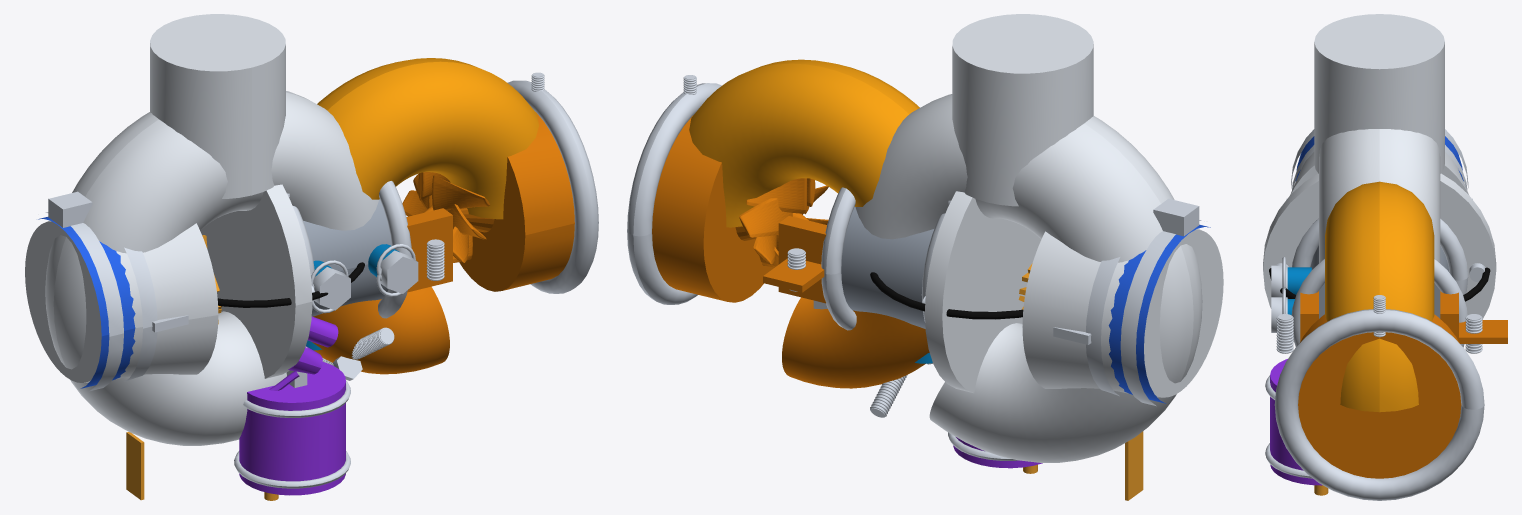
Rendered from turbo_single_refined.glb.
3 renders of one model, left to right at view 1: azimuth 30°, elevation 25°; view 2: azimuth 150°, elevation 25°; view 3: azimuth 270°, elevation 25°, orthographic. The views are drawn at different scales.
Visible parts, largest first — view 1: Compressor_Volute_Scroll, Inconel_Foil_Turbine_Thermal_Blanket, Compressor_Boost_Outlet_Pipe, Anti_Surge_Ported_Air_Inlet_Snout, Compressor_Seal_Backplate, Turbine_VBand_Exhaust_Flange, DualPort_Wastegate_Canister, Divided_TwinScroll_Turbine_Volute, Turbine_Discharge_VBand_Clamp_Ring, CHRA_Bearing_Center_Housing, Inlet_Coupler_T_Clamp_1, Silicone_Inlet_Coupler_Boot (+13 smaller); view 2: Compressor_Volute_Scroll, Inconel_Foil_Turbine_Thermal_Blanket, Compressor_Boost_Outlet_Pipe, Anti_Surge_Ported_Air_Inlet_Snout, Compressor_Seal_Backplate, Turbine_VBand_Exhaust_Flange, Divided_TwinScroll_Turbine_Volute, CHRA_Bearing_Center_Housing, Turbine_Discharge_VBand_Clamp_Ring, Inlet_Coupler_T_Clamp_1, Silicone_Inlet_Coupler_Boot, CHRA_VBand_Retention_Clamp_Turbine (+9 smaller); view 3: Inconel_Foil_Turbine_Thermal_Blanket, Compressor_Boost_Outlet_Pipe, Turbine_VBand_Exhaust_Flange, Turbine_Discharge_VBand_Clamp_Ring, Compressor_Volute_Scroll, Compressor_Seal_Backplate, CHRA_VBand_Retention_Clamp_Compressor, CHRA_VBand_Retention_Clamp_Turbine, DualPort_Wastegate_Canister, TwinScroll_Internal_Divider_Tongue, Anti_Surge_Ported_Air_Inlet_Snout, Turbine_Manifold_Mount_Foot_B (+13 smaller).
Part boxes in pixels (left/top/right/bottom): Compressor_Volute_Scroll: left=45, top=91, right=378, bottom=445; Inconel_Foil_Turbine_Thermal_Blanket: left=317, top=58, right=538, bottom=219; Compressor_Boost_Outlet_Pipe: left=150, top=14, right=285, bottom=198; Anti_Surge_Ported_Air_Inlet_Snout: left=25, top=220, right=218, bottom=382; Compressor_Seal_Backplate: left=200, top=184, right=312, bottom=378; Turbine_VBand_Exhaust_Flange: left=459, top=112, right=574, bottom=291; DualPort_Wastegate_Canister: left=239, top=362, right=345, bottom=495; Divided_TwinScroll_Turbine_Volute: left=312, top=286, right=449, bottom=374; Turbine_Discharge_VBand_Clamp_Ring: left=507, top=80, right=598, bottom=293; CHRA_Bearing_Center_Housing: left=303, top=199, right=391, bottom=316; Inlet_Coupler_T_Clamp_1: left=45, top=191, right=123, bottom=391; Silicone_Inlet_Coupler_Boot: left=38, top=217, right=135, bottom=388; Compressor_Volute_Scroll: left=855, top=94, right=1202, bottom=462; Inconel_Foil_Turbine_Thermal_Blanket: left=689, top=59, right=919, bottom=227; Compressor_Boost_Outlet_Pipe: left=952, top=14, right=1093, bottom=206; Anti_Surge_Ported_Air_Inlet_Snout: left=1022, top=228, right=1223, bottom=397; Compressor_Seal_Backplate: left=925, top=191, right=1041, bottom=393; Turbine_VBand_Exhaust_Flange: left=652, top=116, right=774, bottom=302; Divided_TwinScroll_Turbine_Volute: left=782, top=297, right=929, bottom=388; CHRA_Bearing_Center_Housing: left=841, top=206, right=934, bottom=328; Turbine_Discharge_VBand_Clamp_Ring: left=627, top=83, right=721, bottom=304; Inlet_Coupler_T_Clamp_1: left=1120, top=198, right=1201, bottom=406; Silicone_Inlet_Coupler_Boot: left=1108, top=224, right=1210, bottom=403; CHRA_VBand_Retention_Clamp_Turbine: left=821, top=187, right=856, bottom=330; Inconel_Foil_Turbine_Thermal_Blanket: left=1325, top=181, right=1434, bottom=412; Compressor_Boost_Outlet_Pipe: left=1314, top=14, right=1444, bottom=173; Turbine_VBand_Exhaust_Flange: left=1298, top=314, right=1461, bottom=478; Turbine_Discharge_VBand_Clamp_Ring: left=1274, top=309, right=1484, bottom=500; Compressor_Volute_Scroll: left=1319, top=129, right=1440, bottom=262; Compressor_Seal_Backplate: left=1263, top=173, right=1496, bottom=341; CHRA_VBand_Retention_Clamp_Compressor: left=1292, top=218, right=1468, bottom=294; CHRA_VBand_Retention_Clamp_Turbine: left=1291, top=258, right=1467, bottom=347; DualPort_Wastegate_Canister: left=1270, top=359, right=1322, bottom=485; TwinScroll_Internal_Divider_Tongue: left=1459, top=320, right=1507, bottom=343; Anti_Surge_Ported_Air_Inlet_Snout: left=1290, top=152, right=1468, bottom=194; Turbine_Manifold_Mount_Foot_B: left=1300, top=291, right=1318, bottom=341.
Size of the model in its own units: 0.3695 by 0.3096 by 0.1634.
